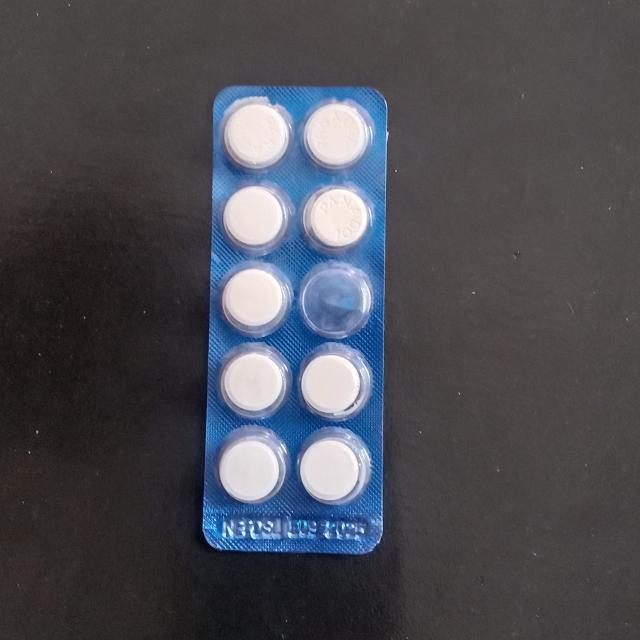defect: (297, 264, 375, 338)
